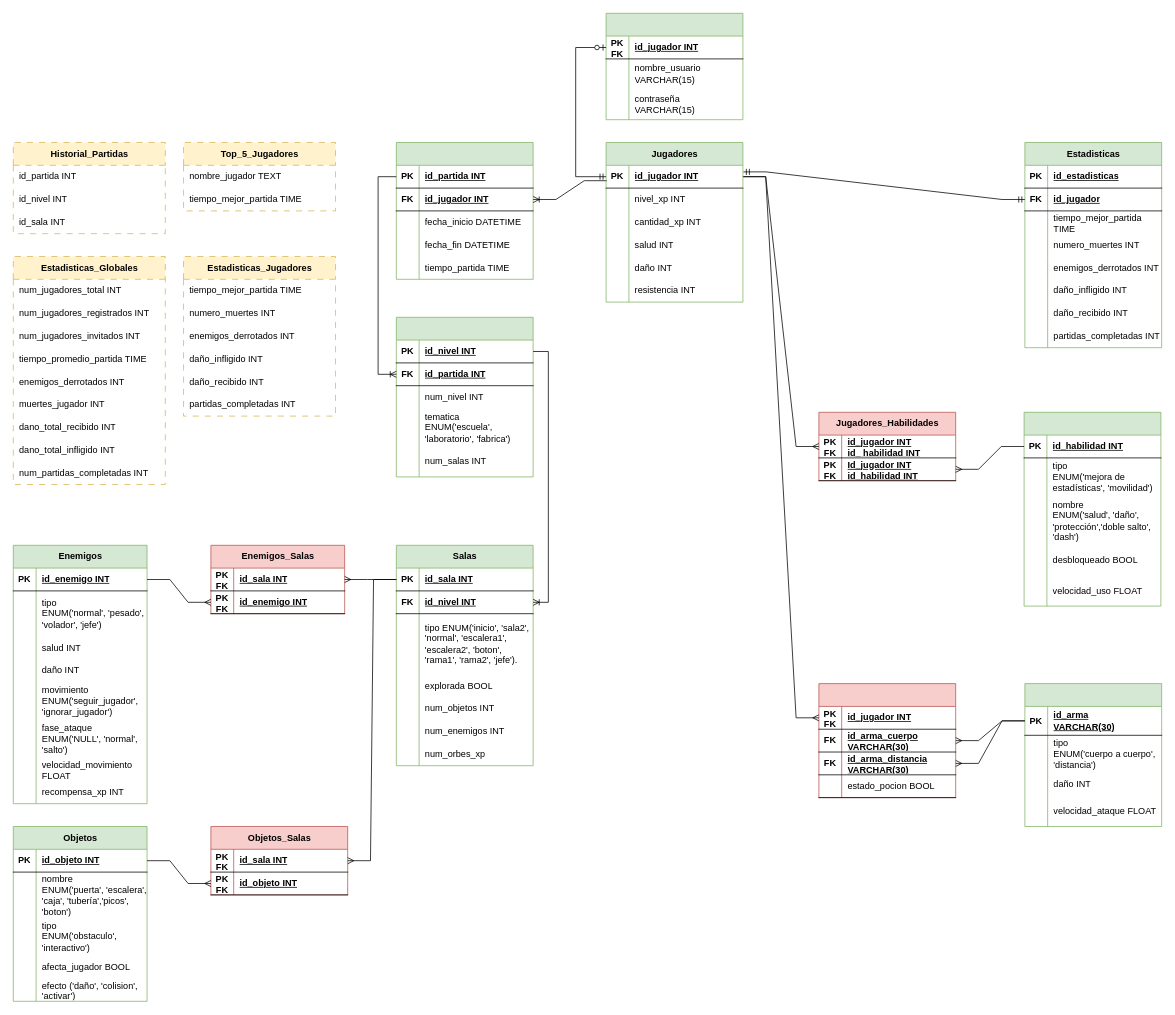
The diagram is 1175 pixels wide and 1015 high, and some of its shapes have lost their labels. The box of each missing label's shape, as (x1, y1, x2, y2) in pixels:
Armas: (1024, 683, 1162, 826)
Cuentas: (605, 13, 743, 120)
Habilidades: (1023, 412, 1161, 606)
Inventarios: (818, 683, 956, 798)
Niveles: (396, 317, 533, 477)
Partidas: (396, 142, 533, 279)
